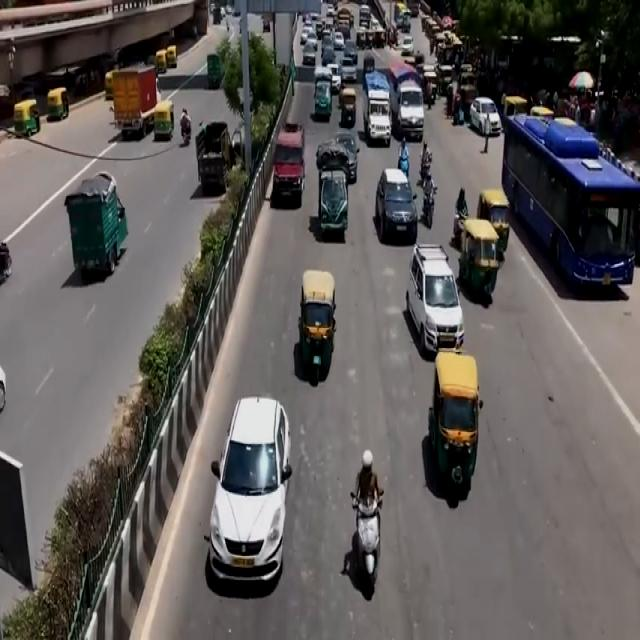BUS: (506, 108, 640, 296)
MOTORCYCLE: (354, 501, 381, 603)
TRUCK: (112, 65, 160, 139)
